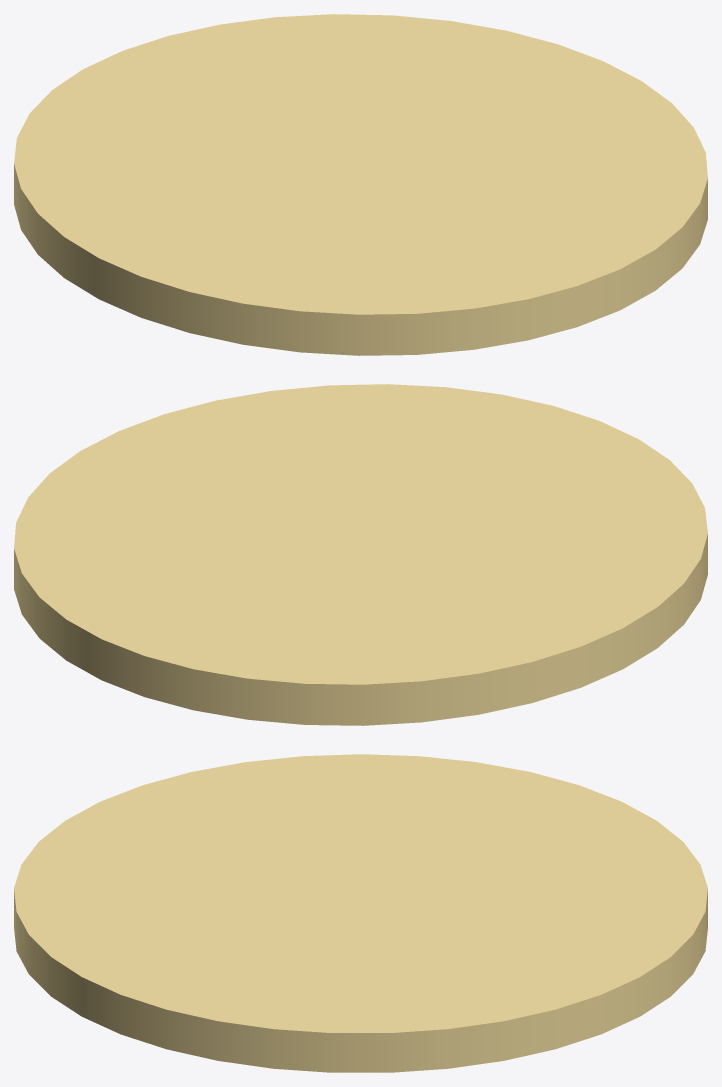
Rendered from newcoin.fbx.
3 renders of one model, top to bottom at view 1: azimuth 30°, elevation 25°; view 2: azimuth 150°, elevation 25°; view 3: azimuth 270°, elevation 25°, orthographic. The views are drawn at different scales.
Parts seen in each view (by area): view 1: CoinVisual; view 2: CoinVisual; view 3: CoinVisual.
Boxes of the visible parts, bbox=[...] form: CoinVisual: bbox=[14, 14, 707, 355]; CoinVisual: bbox=[14, 384, 707, 725]; CoinVisual: bbox=[14, 754, 707, 1072].
Bounding box in the file's own units: 9.67 × 0.6408 × 10.17.
